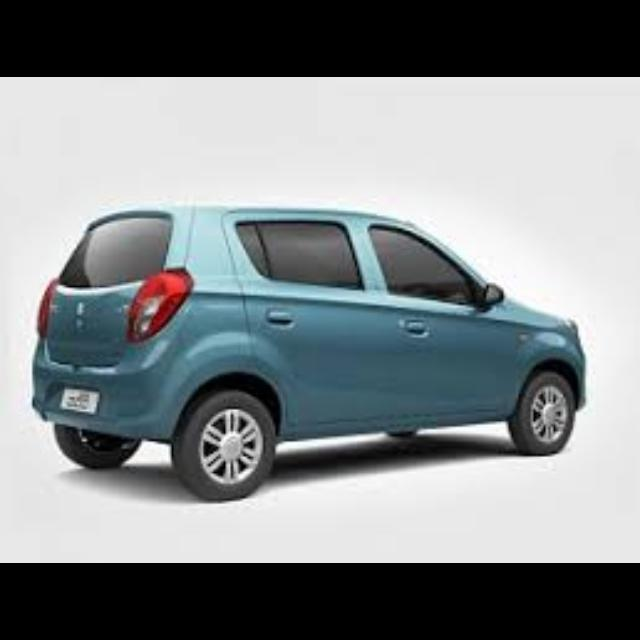vehicles: (22, 198, 588, 504)
